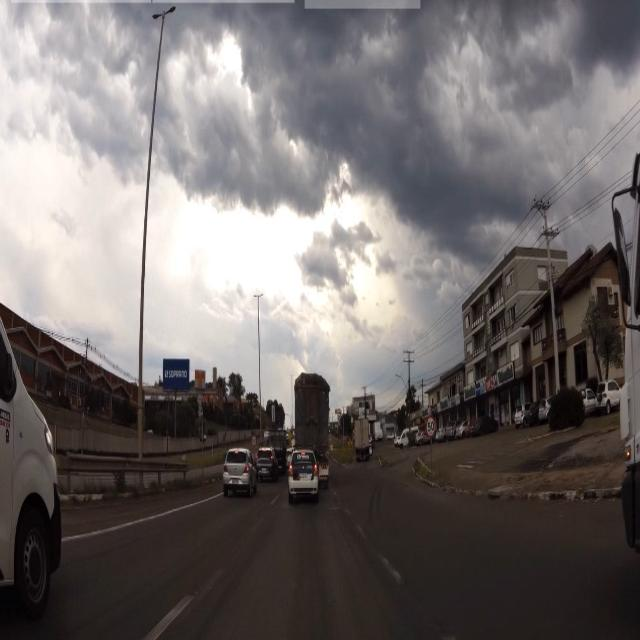R-19: (425, 416, 435, 439)
